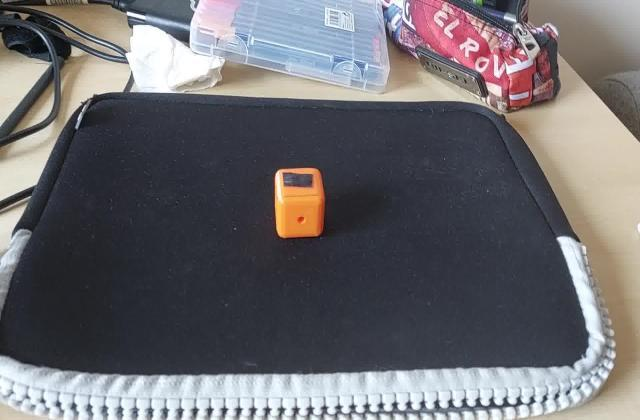black: (281, 170, 318, 192)
cube: (271, 166, 325, 240)
